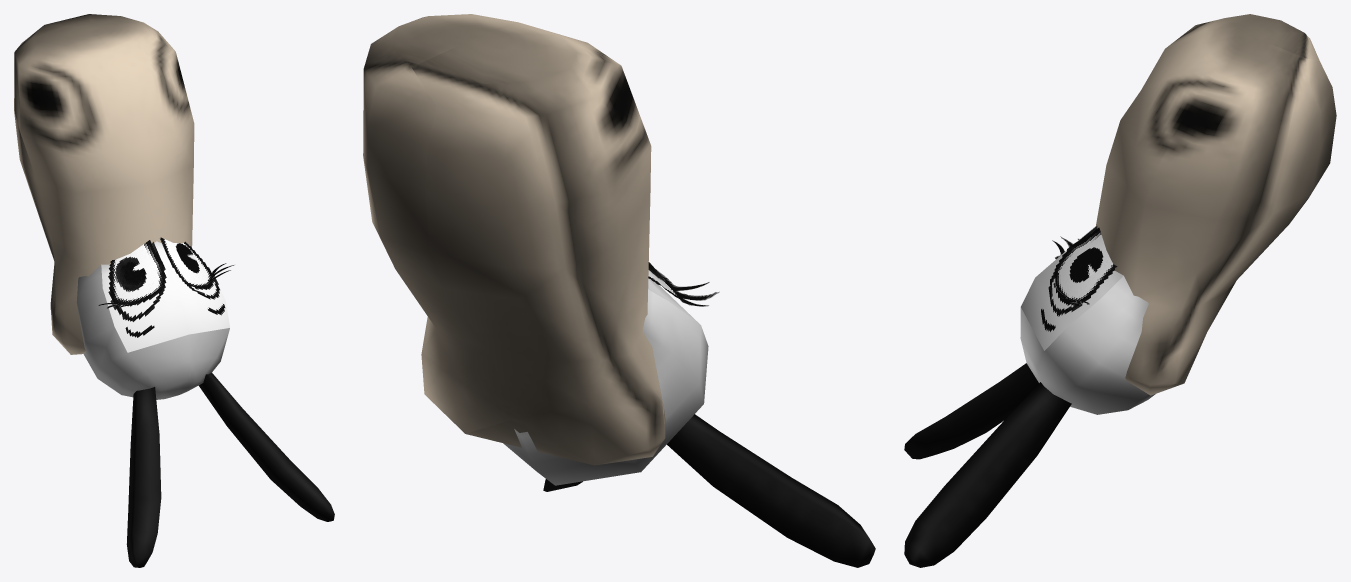
Rendered from hsl.glb.
3 views of the same model, side by side, from view 1: azimuth 30°, elevation 25°; view 2: azimuth 150°, elevation 25°; view 3: azimuth 270°, elevation 25° (orthographic). The views are drawn at different scales.
Parts seen in each view (by area): view 1: muzzle-long-neutral, ears-short, head-short, head-front-short, eyes-short, joint_pupilL_short; view 2: muzzle-long-neutral, ears-short, head-short; view 3: muzzle-long-neutral, ears-short, head-short, head-front-short, eyes-short, joint_pupilR_short.
Boxes of the visible parts, box(x1,y1,x2,y2) form: muzzle-long-neutral: box(14, 14, 194, 354); ears-short: box(126, 373, 334, 567); head-short: box(76, 265, 229, 399); head-front-short: box(101, 241, 229, 352); eyes-short: box(108, 237, 225, 337); joint_pupilL_short: box(115, 256, 146, 291); muzzle-long-neutral: box(363, 14, 665, 465); ears-short: box(543, 414, 875, 567); head-short: box(503, 289, 708, 485); muzzle-long-neutral: box(1096, 14, 1336, 395); ears-short: box(904, 363, 1071, 567); head-short: box(1020, 276, 1155, 414); head-front-short: box(1021, 226, 1123, 350); eyes-short: box(1041, 226, 1117, 331); joint_pupilR_short: box(1069, 247, 1103, 282).
Size of the model in its own units: 1.11 by 2.21 by 1.82.
7 materials, 7 textured.
